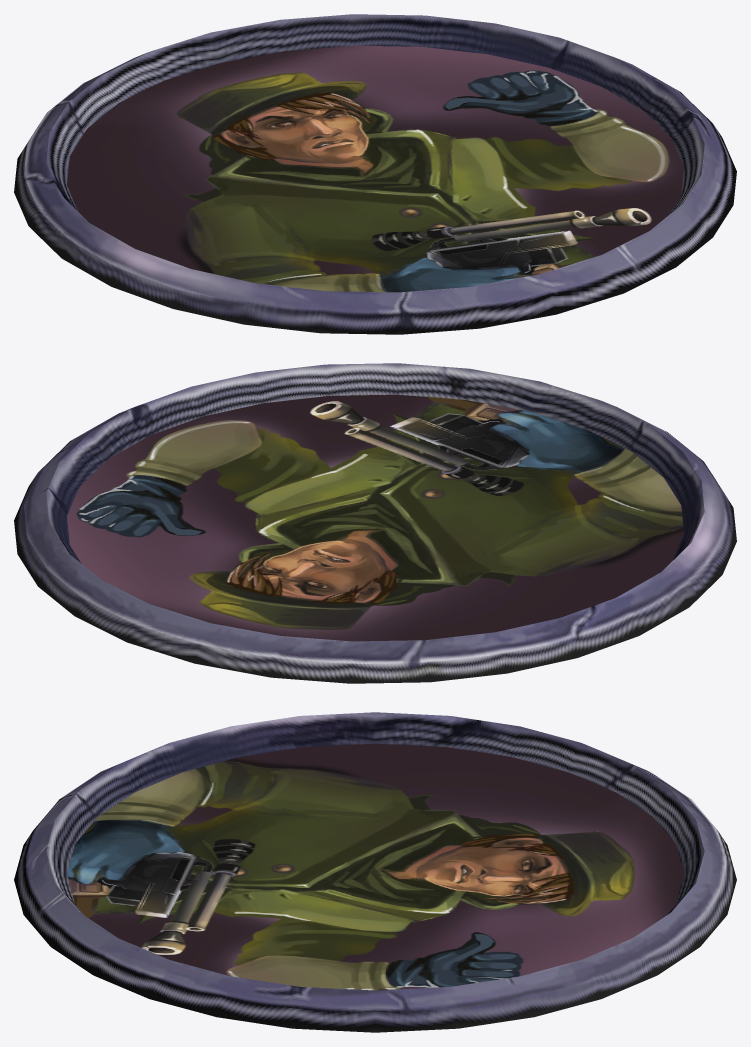
File: unit_border_01.FBX
3 renders of one model, top to bottom at view 1: azimuth 30°, elevation 25°; view 2: azimuth 150°, elevation 25°; view 3: azimuth 270°, elevation 25°, orthographic.
Visible parts, largest first — view 1: Object001, Circle004; view 2: Object001, Circle004; view 3: Object001, Circle004.
Part boxes in pixels (box(x1,y1,x2,y2)): Object001: box(67, 45, 683, 292); Circle004: box(14, 14, 736, 334); Object001: box(67, 394, 683, 641); Circle004: box(14, 363, 736, 683); Object001: box(67, 743, 683, 990); Circle004: box(14, 712, 736, 1032).
Size of the model in its own units: 9.48 by 0.4131 by 9.48.
